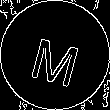M_N: (26, 24, 84, 86)
